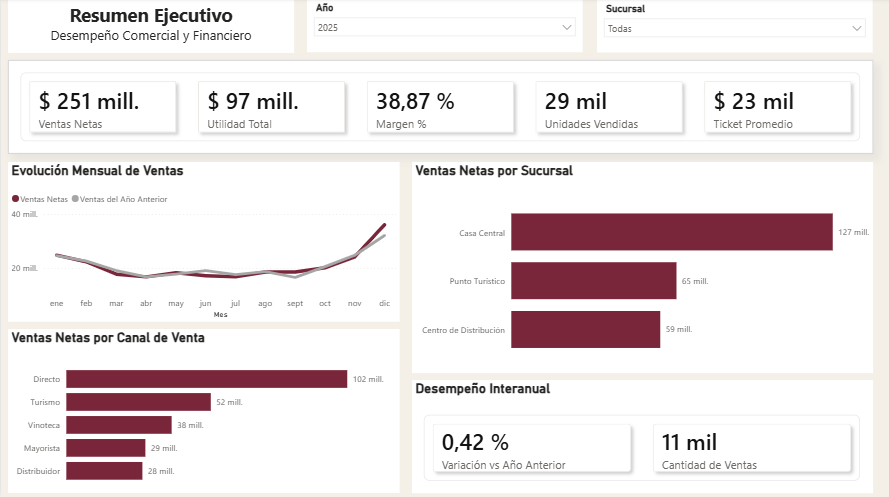

Layout of this report page (visuals, bound fields, positions):
{"tool":"powerbi","page":{"name":"Resumen Ejecutivo","canvas":[1280,720],"ordinal":0},"visuals":[{"type":"textbox","box":[10.1,0,411.8,79.2],"z":0},{"type":"slicer","fields":{"Values":["dim_calendario.Año"]},"box":[440.6,0,397.4,77.8],"z":2000},{"type":"slicer","fields":{"Values":["dim_sucursales1.nombre_sucursal"]},"box":[858.2,1.4,397.4,77],"z":3000},{"type":"cardVisual","fields":{"Data":["Medidas (2).Ventas_Netas","Medidas (2).Utilidad_Total","Medidas (2).Margen %","Medidas (2).Unidades_Vendidas","Medidas (2).Ticket_Promedio"]},"box":[10.1,89.3,1245.6,135.4],"z":4000},{"type":"lineChart","title":"Evolución Mensual de Ventas","fields":{"Category":["dim_calendario.Mes Corto"],"Y":["Medidas (2).Ventas_Netas","Medidas (2).Ventas_Año_Anterior"]},"box":[10.1,236.2,564.5,230.4],"z":9000},{"type":"barChart","title":"Ventas Netas por Sucursal","fields":{"Category":["dim_sucursales1.nombre_sucursal"],"Y":["Medidas (2).Ventas_Netas"]},"box":[591.8,236.2,663.8,303.8],"z":10000},{"type":"barChart","title":"Ventas Netas por Canal de Venta","fields":{"Category":["fact_ventas4.canal_venta"],"Y":["Medidas (2).Ventas_Netas"]},"box":[10.1,476.6,564.5,236.2],"z":11000},{"type":"cardVisual","title":"Desempeño Interanual","fields":{"Data":["Medidas (2).Variación YoY %","Medidas (2).Cantidad_Ventas"]},"box":[591.8,550.1,663.8,162.7],"z":12000}]}

Visuals, with their boxes in screenshot pixels (x1, y1, x2, y2), scaled from the page's 1280x720 canvas onto the 889x497 screenshot:
textbox: left=7, top=0, right=293, bottom=55
slicer - dim_calendario.Año: left=306, top=0, right=582, bottom=54
slicer - dim_sucursales1.nombre_sucursal: left=596, top=1, right=872, bottom=54
cardVisual - Medidas (2).Ventas_Netas x Medidas (2).Utilidad_Total: left=7, top=62, right=872, bottom=155
"Evolución Mensual de Ventas" lineChart: left=7, top=163, right=399, bottom=322
"Ventas Netas por Sucursal" barChart: left=411, top=163, right=872, bottom=373
"Ventas Netas por Canal de Venta" barChart: left=7, top=329, right=399, bottom=492
"Desempeño Interanual" cardVisual: left=411, top=380, right=872, bottom=492
